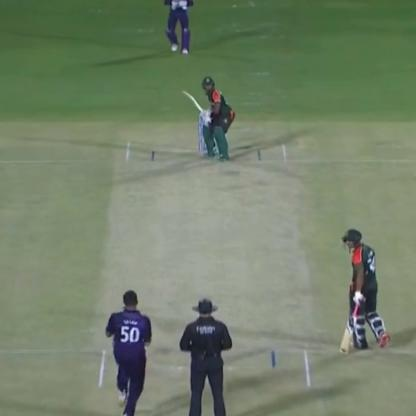pitch: (93, 132, 320, 398)
